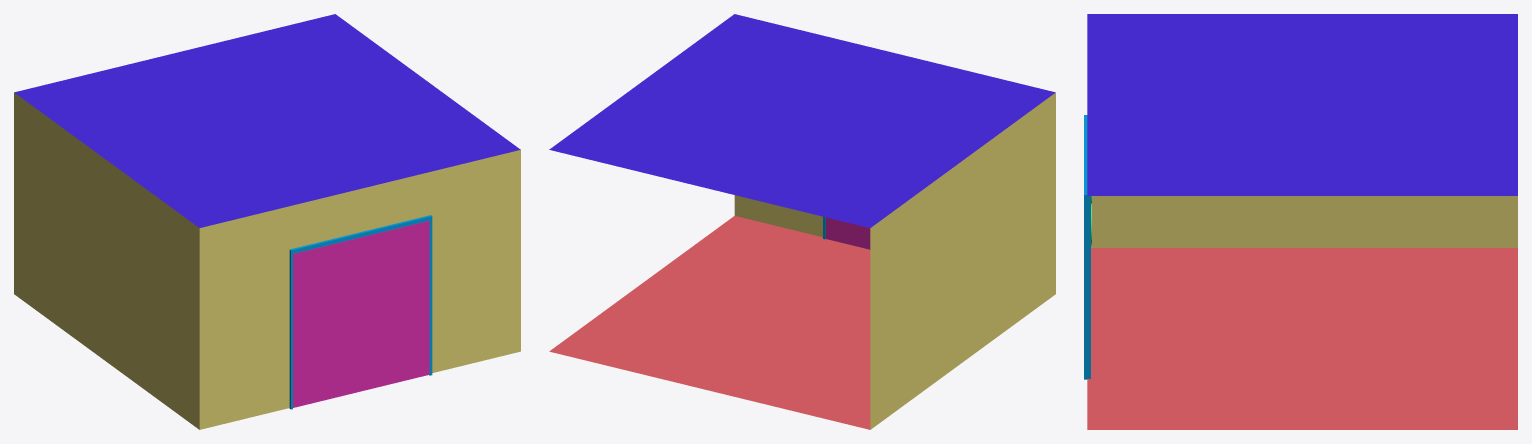
File: CorridoorCorner.fbx
3 views of the same model, side by side, from view 1: azimuth 30°, elevation 25°; view 2: azimuth 150°, elevation 25°; view 3: azimuth 270°, elevation 25° (orthographic). The views are drawn at different scales.
Parts seen in each view (by area): view 1: roof.001, wall1.001, wall2.001, doorLeft, doorRight, doorframe; view 2: roof.001, floor.001, wall2.001, wall1.001, doorLeft; view 3: roof.001, floor.001, wall2.001, doorframe.
Part boxes in pixels (<box>): roof.001: <box>14,14,520,227</box>; wall1.001: <box>199,150,520,429</box>; wall2.001: <box>14,92,199,429</box>; doorLeft: <box>361,220,429,390</box>; doorRight: <box>293,237,361,407</box>; doorframe: <box>289,215,432,409</box>; roof.001: <box>549,14,1055,227</box>; floor.001: <box>549,216,870,429</box>; wall2.001: <box>870,92,1055,429</box>; wall1.001: <box>734,195,822,237</box>; doorLeft: <box>826,217,870,249</box>; roof.001: <box>1087,14,1517,195</box>; floor.001: <box>1087,248,1517,429</box>; wall2.001: <box>1091,196,1517,247</box>; doorframe: <box>1084,115,1090,379</box>.
Bounding box in the file's own units: 1000 × 601 × 1008.
